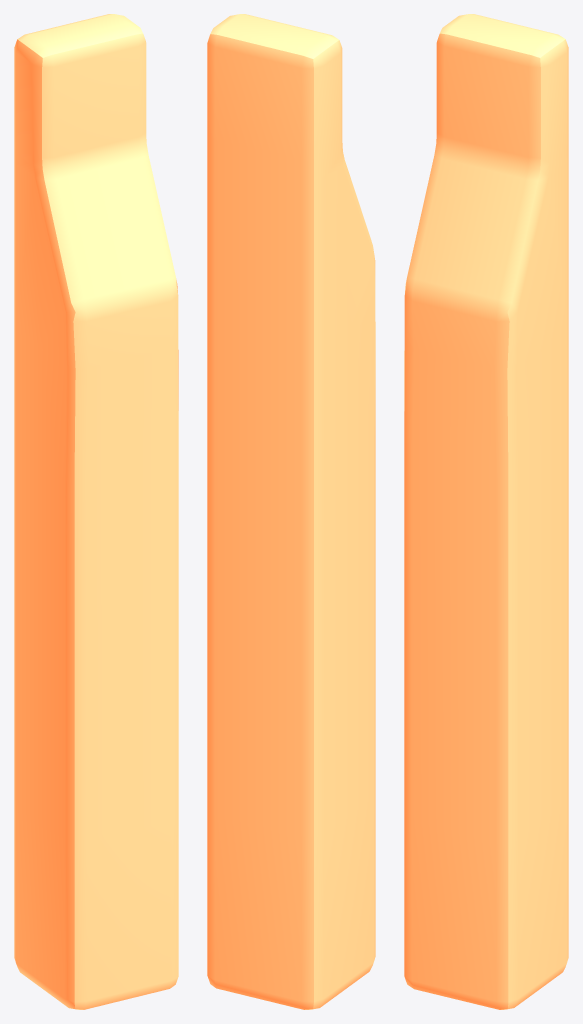
File: SM_Rudder02.fbx
3 views of the same model, side by side, from view 1: azimuth 30°, elevation 25°; view 2: azimuth 150°, elevation 25°; view 3: azimuth 330°, elevation 25° (orthographic). The views are drawn at different scales.
Visible parts, largest first — view 1: SM_Rudder02; view 2: SM_Rudder02; view 3: SM_Rudder02.
Boxes of the visible parts, x1,y1,x2,y2 form: SM_Rudder02: (14, 14, 178, 1009); SM_Rudder02: (207, 14, 375, 1009); SM_Rudder02: (404, 14, 568, 1009).
Size of the model in its own units: 50.01 by 50.01 by 400.
